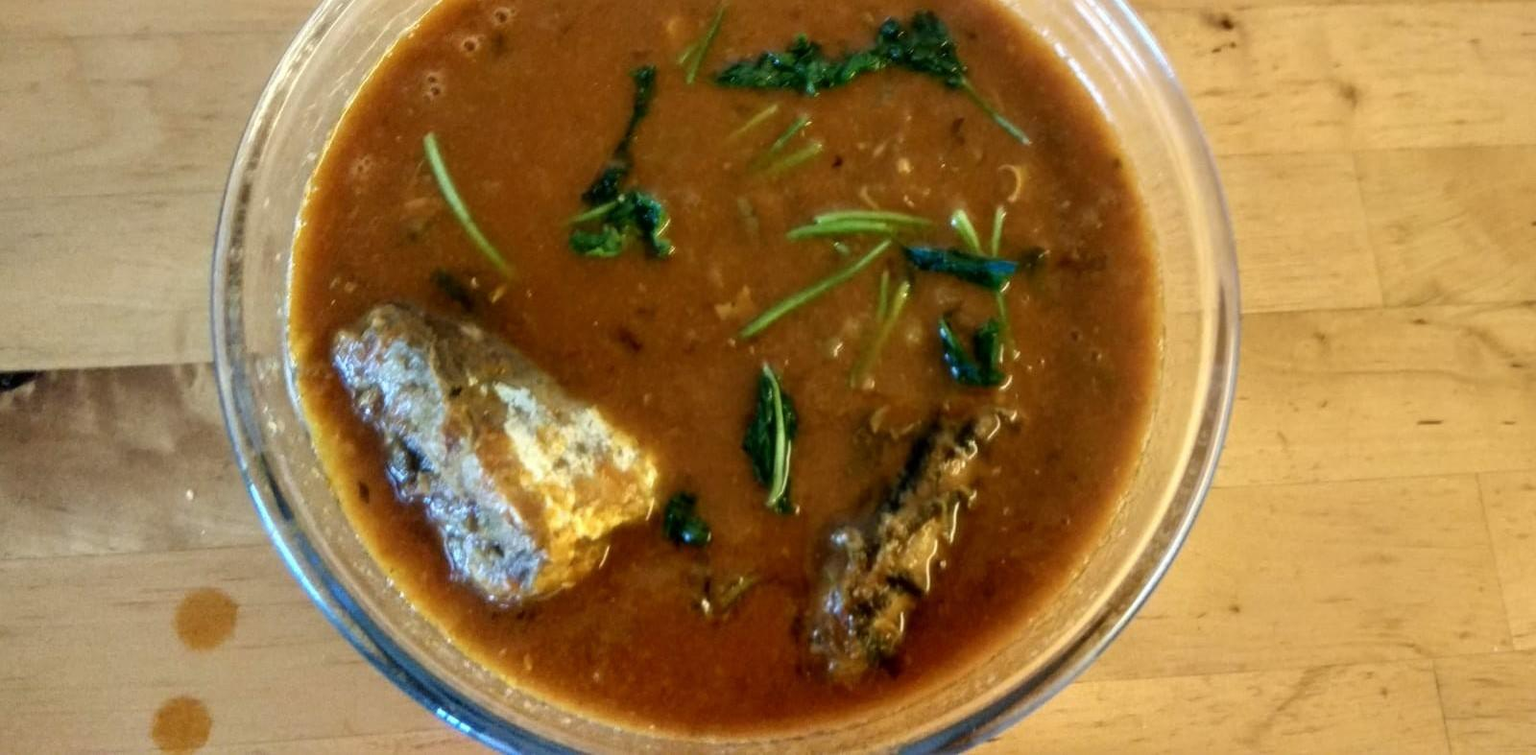FishCurry: (287, 0, 1164, 731)
